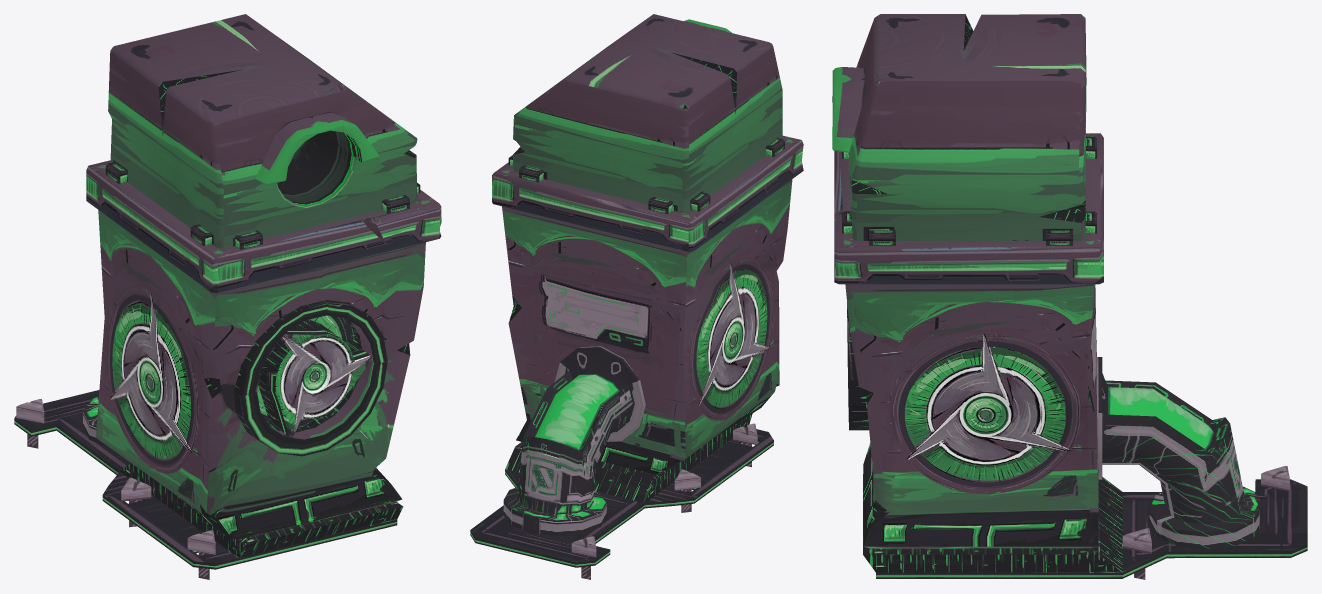
3 renders of one model, left to right at view 1: azimuth 30°, elevation 25°; view 2: azimuth 150°, elevation 25°; view 3: azimuth 270°, elevation 25°, orthographic. The views are drawn at different scales.
Visible parts, largest first — view 1: RECYCLE_BASE, RECYCLE_SPIN_COVER, RECYCLE_SPINNER, SCREW001, SCREW002, SCREW, RECYCLE_TUBE; view 2: RECYCLE_BASE, RECYCLE_TUBE, SCREW002, SCREW, SCREW001; view 3: RECYCLE_BASE, RECYCLE_TUBE, RECYCLE_SPIN_COVER, SCREW003.
Boxes of the visible parts, x1=… form: RECYCLE_BASE: x1=14, y1=14, x2=441, y2=569; RECYCLE_SPIN_COVER: x1=234, y1=300, x2=387, y2=456; RECYCLE_SPINNER: x1=258, y1=319, x2=371, y2=437; SCREW001: x1=187, y1=530, x2=215, y2=579; SCREW002: x1=16, y1=399, x2=44, y2=448; SCREW: x1=121, y1=477, x2=151, y2=527; RECYCLE_TUBE: x1=82, y1=396, x2=109, y2=447; RECYCLE_BASE: x1=470, y1=14, x2=803, y2=567; RECYCLE_TUBE: x1=503, y1=346, x2=645, y2=536; SCREW002: x1=571, y1=536, x2=596, y2=579; SCREW: x1=674, y1=469, x2=700, y2=512; SCREW001: x1=733, y1=423, x2=757, y2=467; RECYCLE_BASE: x1=832, y1=14, x2=1307, y2=578; RECYCLE_TUBE: x1=1096, y1=357, x2=1262, y2=549; RECYCLE_SPIN_COVER: x1=847, y1=302, x2=868, y2=430; SCREW003: x1=1122, y1=528, x2=1151, y2=579.
Bounding box in the file's own units: 0.5854 × 1.14 × 0.9954.
Materials: 2 (2 with a texture image).
